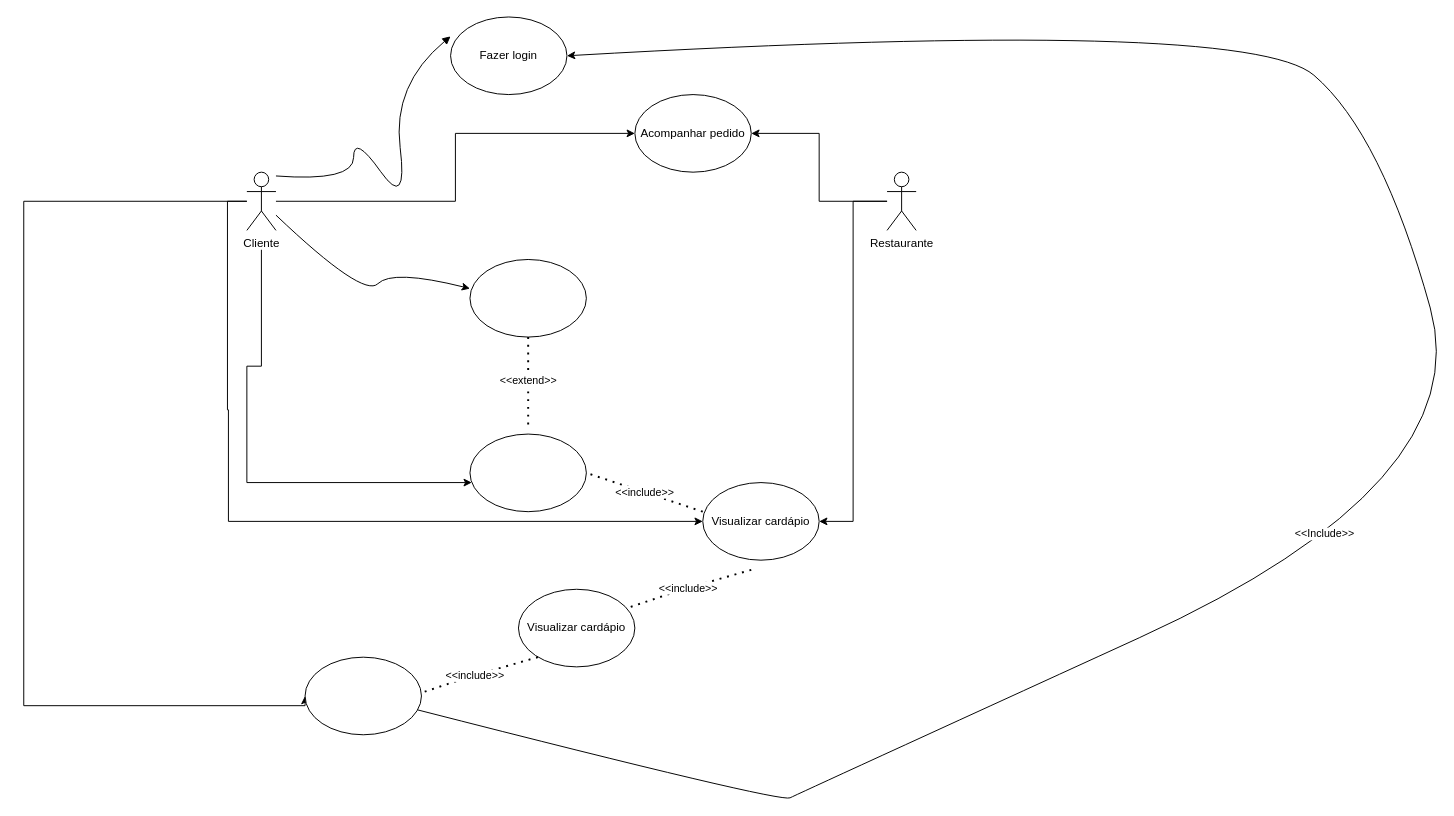
Image size: 1454x816. Some labels were removed from this diagram. Here are the shapes that lost their labels. From the top down, the box of each, then its label:
(469, 259, 586, 337): Cancelar pedido
(469, 433, 586, 512): Fazer pedido
(304, 656, 421, 735): Buscar restaurante
